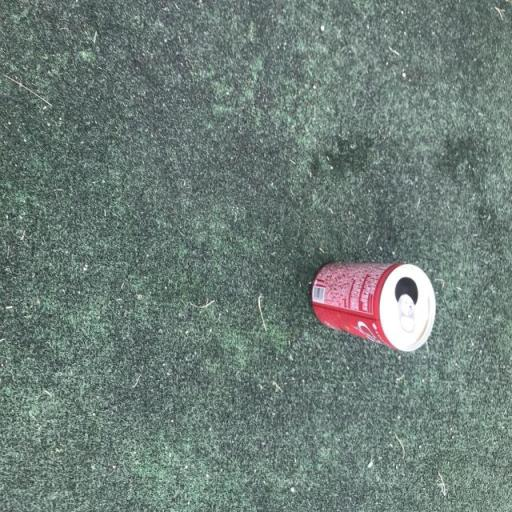metal: (314, 212, 464, 404)
